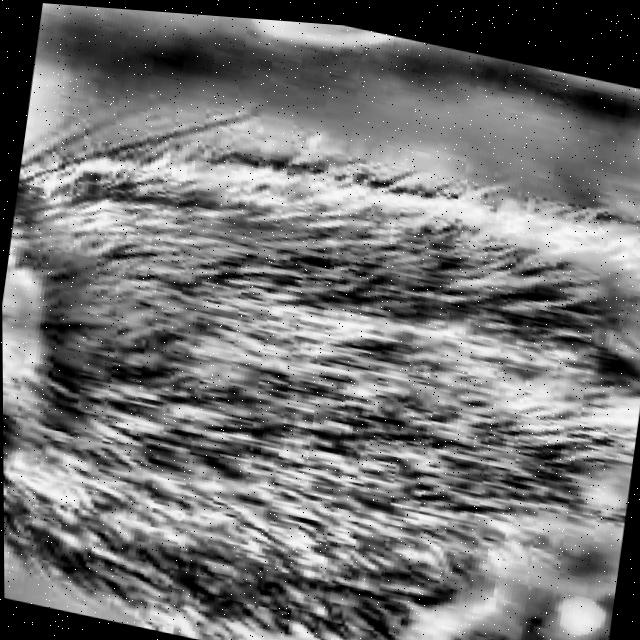rabbit: (0, 37, 640, 640)
